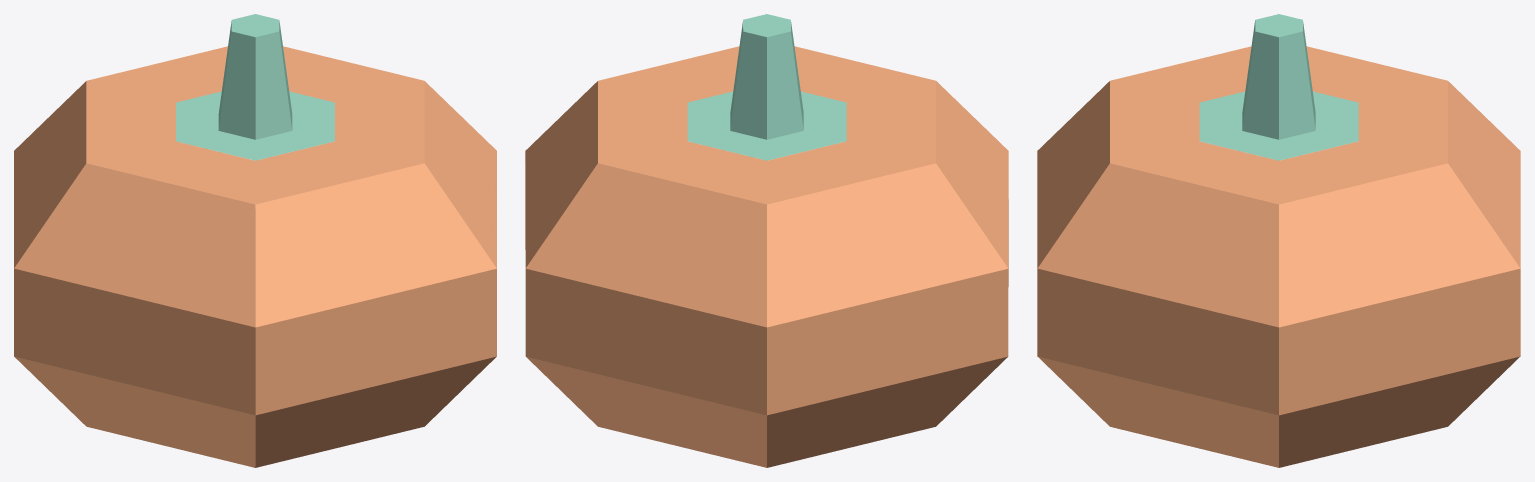
File: pumpkin-basic.glb
3 renders of one model, left to right at view 1: azimuth 30°, elevation 25°; view 2: azimuth 150°, elevation 25°; view 3: azimuth 270°, elevation 25°, orthographic.
Parts seen in each view (by area): view 1: pumpkinBasic; view 2: pumpkinBasic; view 3: pumpkinBasic.
Boxes of the visible parts, x1,y1,x2,y2 form: pumpkinBasic: [14, 14, 496, 467]; pumpkinBasic: [525, 14, 1008, 467]; pumpkinBasic: [1037, 14, 1520, 467].
Size of the model in its own units: 0.42 by 0.299 by 0.3638.
